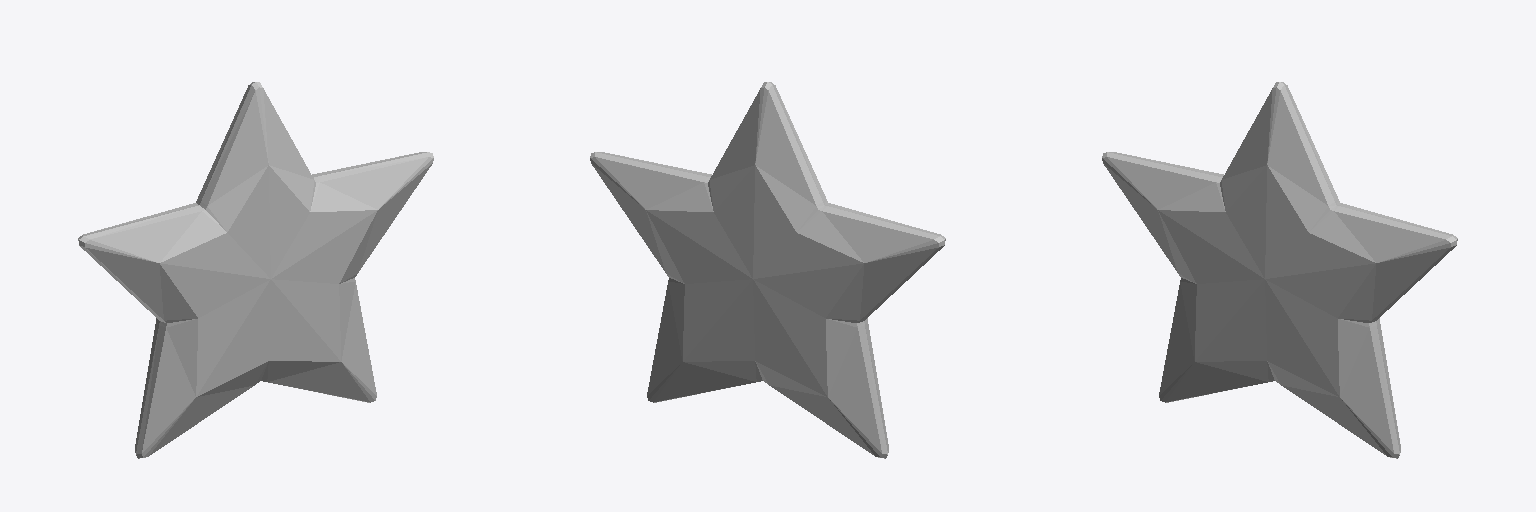
File: newStar.obj
The picture shows the model from 3 angles: view 1: azimuth 30°, elevation 25°; view 2: azimuth 150°, elevation 25°; view 3: azimuth 330°, elevation 25°; orthographic projection.
Visible parts, largest first — view 1: newStar1:polySurface4 newStar1:polySurface32 newStar1:polySurfac; view 2: newStar1:polySurface4 newStar1:polySurface32 newStar1:polySurfac; view 3: newStar1:polySurface4 newStar1:polySurface32 newStar1:polySurfac.
Boxes of the visible parts, <box> form: newStar1:polySurface4 newStar1:polySurface32 newStar1:polySurfac: <box>78,82,433,458</box>; newStar1:polySurface4 newStar1:polySurface32 newStar1:polySurfac: <box>590,82,945,458</box>; newStar1:polySurface4 newStar1:polySurface32 newStar1:polySurfac: <box>1102,82,1457,458</box>.
Bounding box in the file's own units: 4.5 × 4.23 × 0.6572.